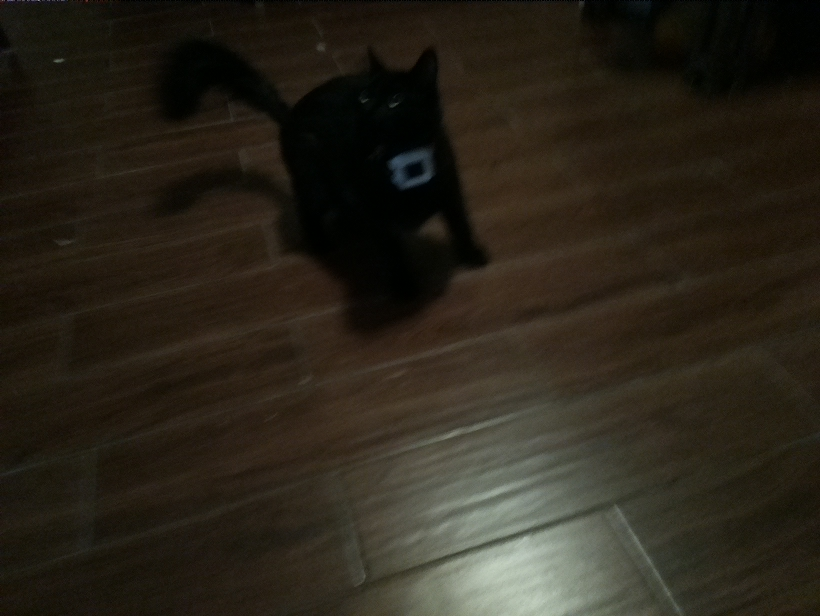cat: (149, 39, 501, 304)
